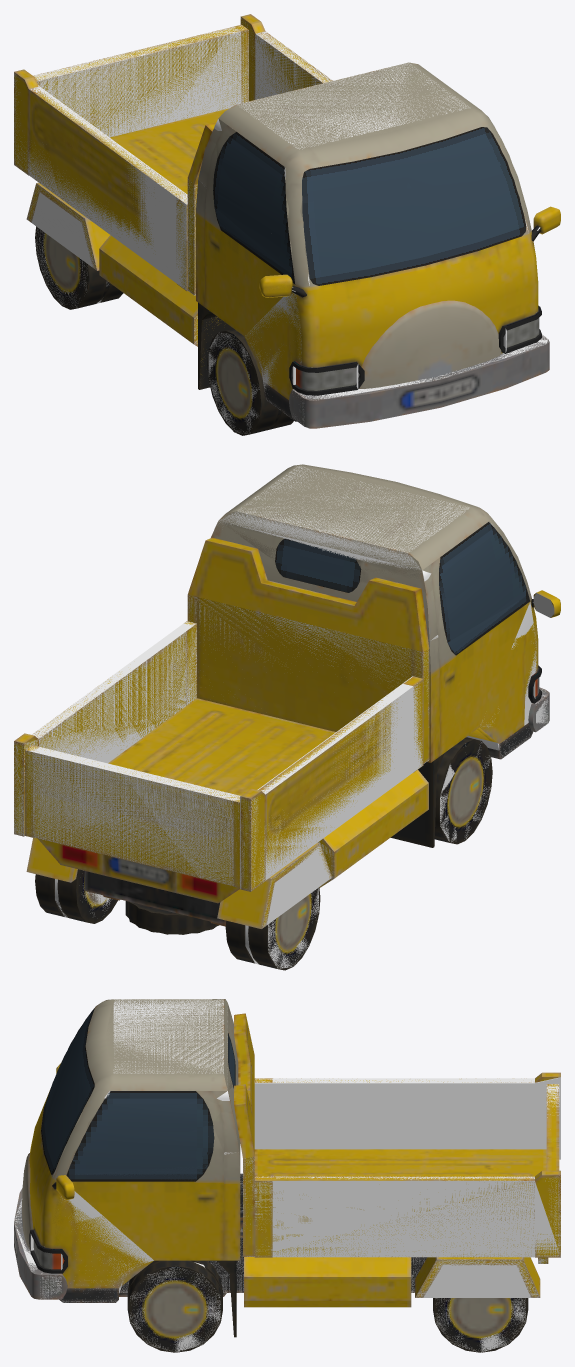
The model's file is objects_un_car01.gltf.
3 renders of one model, top to bottom at view 1: azimuth 30°, elevation 25°; view 2: azimuth 150°, elevation 25°; view 3: azimuth 270°, elevation 25°, orthographic. The views are drawn at different scales.
Visible parts, largest first — view 1: um_objects_un_car01_model_lod0Shape:objects_un_car01_steelye, um_objects_un_car01_model_lod0Shape:objects_un_car01_shadow0, um_objects_un_car01_model_lod0Shape:objects_un_car01_object, um_objects_un_car01_model_lod0Shape:objects_un_car01_glass, um_objects_un_car01_model_lod1Shape:objects_un_car01_steelye, um_objects_un_car01_model_lod2Shape:objects_un_car01_steelye, um_objects_un_car01_model_lod1Shape:objects_un_car01_glass, um_objects_un_car01_model_lod1Shape:objects_un_car01_object, um_objects_un_car01_model_lod2Shape:objects_un_car01_object, um_objects_un_car01_model_lod2Shape:objects_un_car01_glass; view 2: um_objects_un_car01_model_lod0Shape:objects_un_car01_steelye, um_objects_un_car01_model_lod0Shape:objects_un_car01_shadow0, um_objects_un_car01_model_lod1Shape:objects_un_car01_steelye, um_objects_un_car01_model_lod0Shape:objects_un_car01_object, um_objects_un_car01_model_lod2Shape:objects_un_car01_steelye, um_objects_un_car01_model_lod0Shape:objects_un_car01_glass, um_objects_un_car01_model_lod1Shape:objects_un_car01_glass, um_objects_un_car01_model_lod1Shape:objects_un_car01_object, um_objects_un_car01_model_lod2Shape:objects_un_car01_object, um_objects_un_car01_model_lod2Shape:objects_un_car01_glass; view 3: um_objects_un_car01_model_lod0Shape:objects_un_car01_shadow0, um_objects_un_car01_model_lod0Shape:objects_un_car01_steelye, um_objects_un_car01_model_lod0Shape:objects_un_car01_object, um_objects_un_car01_model_lod0Shape:objects_un_car01_glass, um_objects_un_car01_model_lod2Shape:objects_un_car01_steelye, um_objects_un_car01_model_lod1Shape:objects_un_car01_steelye, um_objects_un_car01_model_lod1Shape:objects_un_car01_glass, um_objects_un_car01_model_lod1Shape:objects_un_car01_object, um_objects_un_car01_model_lod2Shape:objects_un_car01_object, um_objects_un_car01_model_lod2Shape:objects_un_car01_glass.
Boxes of the visible parts, x1,y1,x2,y2 form: um_objects_un_car01_model_lod0Shape:objects_un_car01_steelye: (14, 14, 538, 399); um_objects_un_car01_model_lod0Shape:objects_un_car01_shadow0: (14, 17, 547, 433); um_objects_un_car01_model_lod0Shape:objects_un_car01_object: (26, 182, 560, 435); um_objects_un_car01_model_lod0Shape:objects_un_car01_glass: (213, 127, 526, 285); um_objects_un_car01_model_lod1Shape:objects_un_car01_steelye: (14, 18, 521, 373); um_objects_un_car01_model_lod2Shape:objects_un_car01_steelye: (14, 19, 332, 399); um_objects_un_car01_model_lod1Shape:objects_un_car01_glass: (213, 132, 521, 284); um_objects_un_car01_model_lod1Shape:objects_un_car01_object: (36, 215, 560, 433); um_objects_un_car01_model_lod2Shape:objects_un_car01_object: (37, 228, 360, 429); um_objects_un_car01_model_lod2Shape:objects_un_car01_glass: (215, 207, 292, 274); um_objects_un_car01_model_lod0Shape:objects_un_car01_steelye: (14, 464, 538, 903); um_objects_un_car01_model_lod0Shape:objects_un_car01_shadow0: (14, 466, 554, 968); um_objects_un_car01_model_lod1Shape:objects_un_car01_steelye: (14, 466, 536, 889); um_objects_un_car01_model_lod0Shape:objects_un_car01_object: (26, 590, 560, 970); um_objects_un_car01_model_lod2Shape:objects_un_car01_steelye: (24, 512, 535, 901); um_objects_un_car01_model_lod0Shape:objects_un_car01_glass: (275, 532, 529, 654); um_objects_un_car01_model_lod1Shape:objects_un_car01_glass: (275, 522, 529, 651); um_objects_un_car01_model_lod1Shape:objects_un_car01_object: (77, 595, 534, 968); um_objects_un_car01_model_lod2Shape:objects_un_car01_object: (56, 603, 535, 967); um_objects_un_car01_model_lod2Shape:objects_un_car01_glass: (448, 597, 525, 655); um_objects_un_car01_model_lod0Shape:objects_un_car01_shadow0: (14, 999, 560, 1352); um_objects_un_car01_model_lod0Shape:objects_un_car01_steelye: (29, 999, 560, 1288); um_objects_un_car01_model_lod0Shape:objects_un_car01_object: (14, 1063, 540, 1352); um_objects_un_car01_model_lod0Shape:objects_un_car01_glass: (41, 1008, 235, 1181); um_objects_un_car01_model_lod2Shape:objects_un_car01_steelye: (54, 1049, 559, 1287); um_objects_un_car01_model_lod1Shape:objects_un_car01_steelye: (52, 999, 560, 1286); um_objects_un_car01_model_lod1Shape:objects_un_car01_glass: (62, 1026, 233, 1181); um_objects_un_car01_model_lod1Shape:objects_un_car01_object: (53, 1179, 525, 1351); um_objects_un_car01_model_lod2Shape:objects_un_car01_object: (40, 1256, 510, 1350); um_objects_un_car01_model_lod2Shape:objects_un_car01_glass: (70, 1165, 207, 1180).
Bounding box in the file's own units: 3.41 × 3.26 × 6.07.
4 materials, 3 textured.
